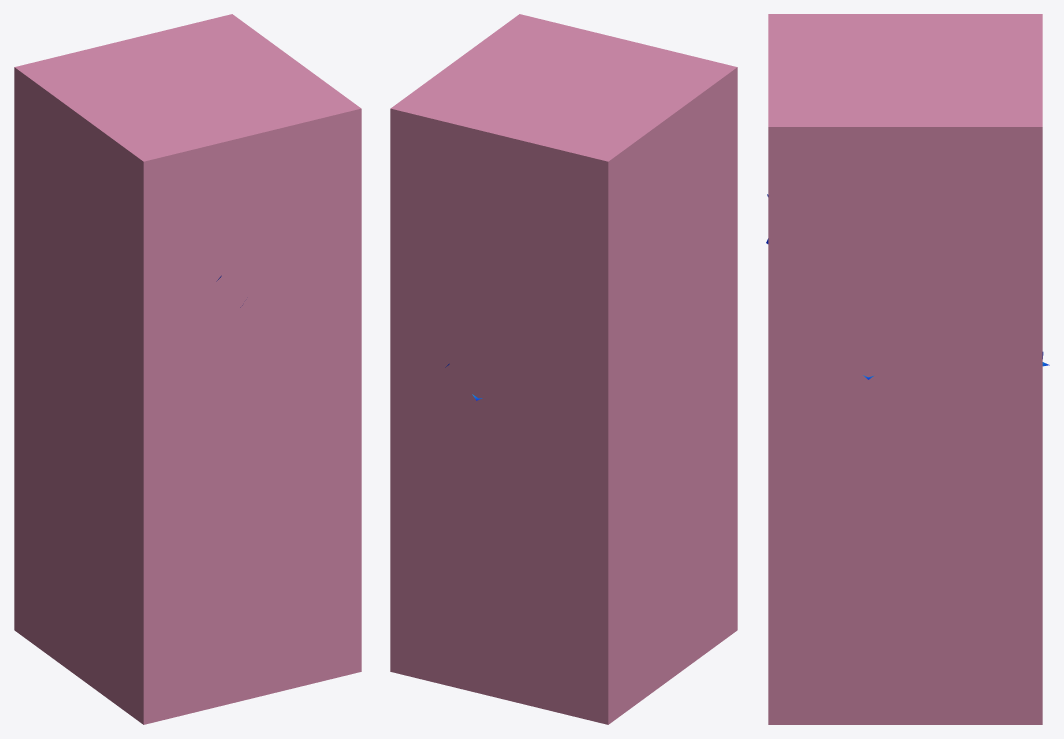
File: tree_aspen_large_a.dae
3 views of the same model, side by side, from view 1: azimuth 30°, elevation 25°; view 2: azimuth 150°, elevation 25°; view 3: azimuth 270°, elevation 25° (orthographic). The views are drawn at different scales.
Visible parts, largest first — view 1: Untitled; view 2: Untitled; view 3: Untitled.
Boxes of the visible parts, x1=… form: Untitled: x1=14, y1=14, x2=361, y2=724; Untitled: x1=390, y1=14, x2=737, y2=724; Untitled: x1=768, y1=14, x2=1042, y2=724.
Size of the model in its own units: 5.32 by 5.52 by 12.82.
